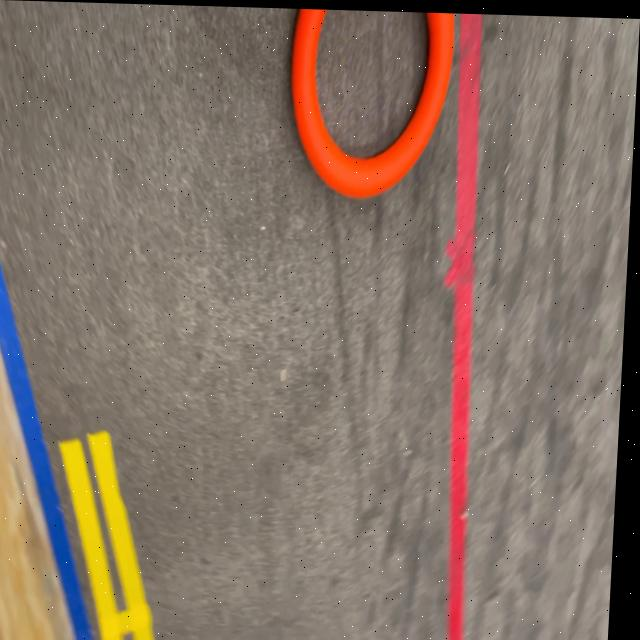note: (287, 7, 456, 195)
